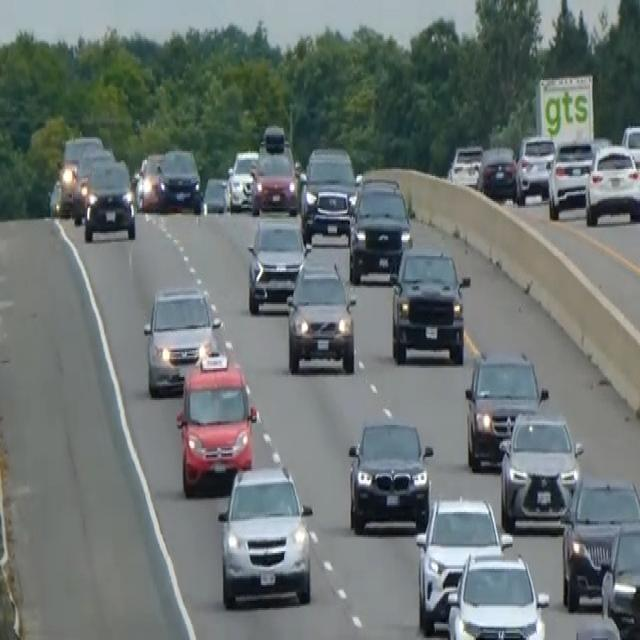car: (414, 492, 513, 634), (175, 347, 257, 496), (560, 473, 639, 611), (498, 407, 583, 533), (463, 347, 548, 471), (346, 416, 433, 533), (389, 243, 470, 364), (446, 548, 549, 638), (142, 283, 221, 397), (285, 256, 357, 375), (347, 174, 412, 284), (246, 213, 306, 313), (299, 144, 358, 240), (600, 518, 639, 638), (584, 142, 639, 226), (82, 158, 136, 242), (250, 123, 298, 215), (547, 137, 595, 219), (56, 134, 103, 214), (71, 146, 114, 222), (157, 146, 201, 212), (515, 132, 555, 202), (476, 144, 517, 201), (226, 148, 258, 212), (134, 151, 165, 212), (447, 140, 483, 188), (620, 122, 639, 178), (202, 174, 227, 213)
jeep: (215, 457, 315, 610)
